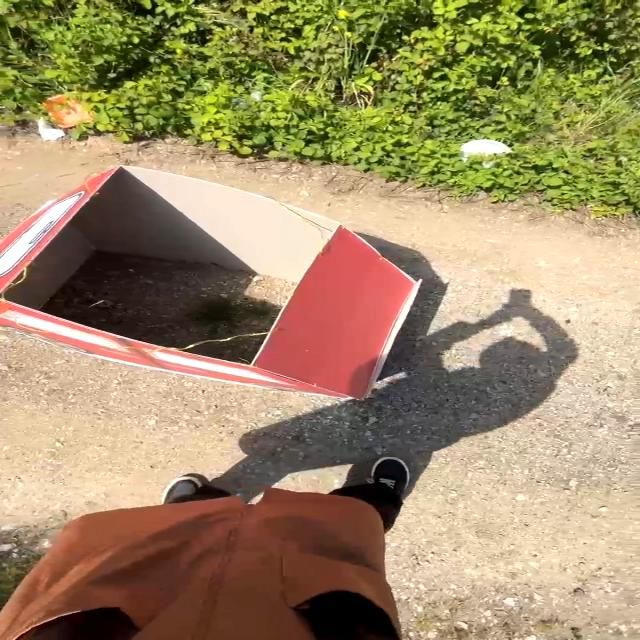red_car: (0, 142, 468, 430)
